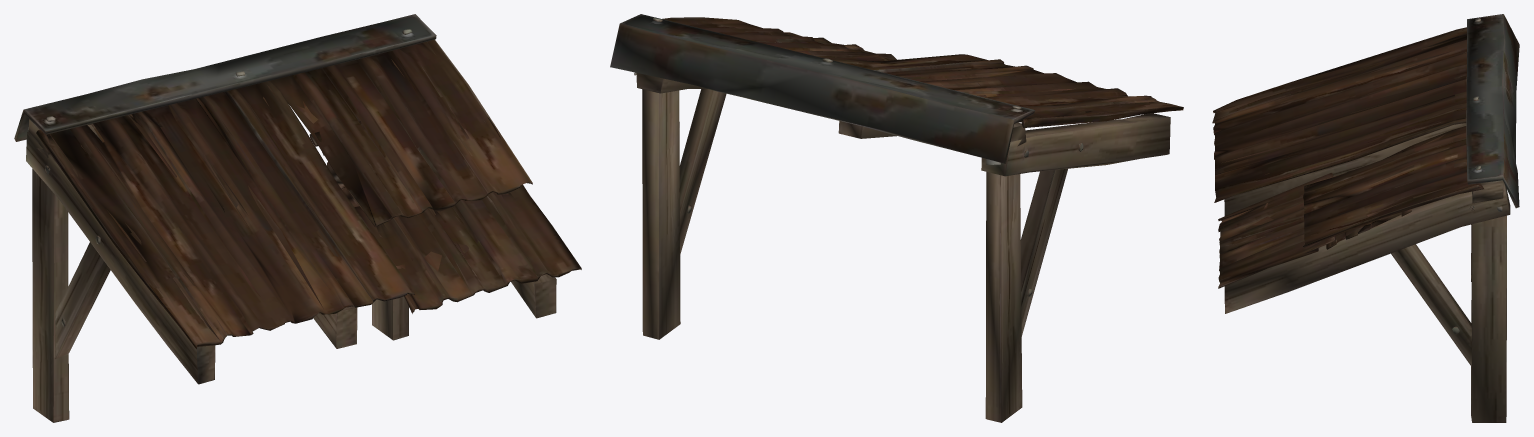
Rendered from k-roof-gentle.glb.
3 views of the same model, side by side, from view 1: azimuth 30°, elevation 25°; view 2: azimuth 150°, elevation 25°; view 3: azimuth 270°, elevation 25° (orthographic). The views are drawn at different scales.
Bounding box in the file's own units: 0.9536 × 0.7006 × 0.7558.
1 material, 1 textured.
